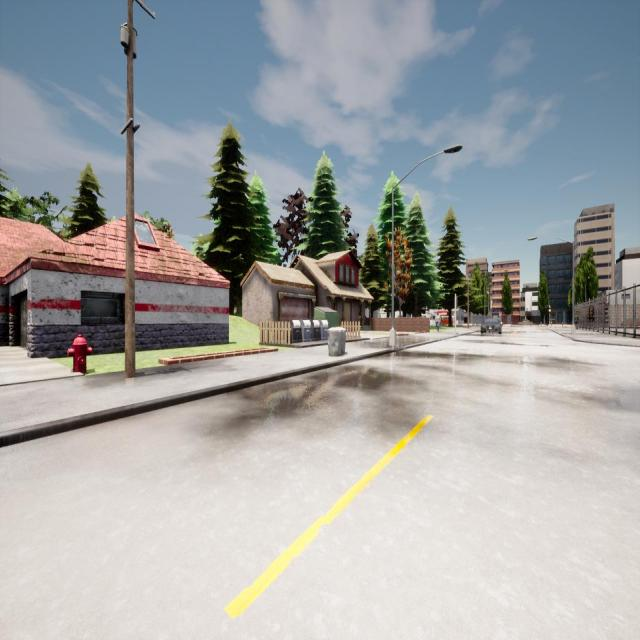Pedestrian: (435, 311, 441, 331), (574, 312, 580, 330)
Vehicle: (480, 317, 502, 333)
traffic_light: (456, 296, 458, 306), (549, 307, 551, 314)
